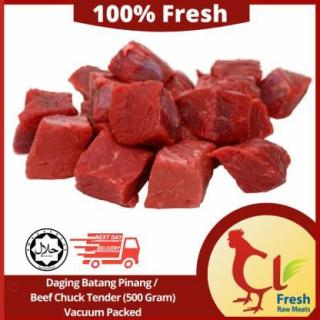Daging Sapi: (11, 39, 313, 208), (76, 129, 152, 206), (146, 139, 218, 212), (175, 94, 276, 143), (12, 87, 78, 159), (27, 115, 93, 182), (110, 83, 180, 143), (212, 142, 289, 196), (108, 40, 173, 96), (260, 68, 311, 121)
